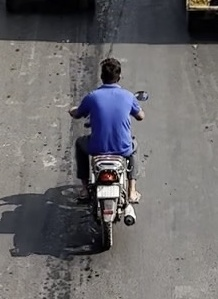BikeWithRider: (63, 53, 152, 253)
Helmet: (94, 53, 126, 88)
